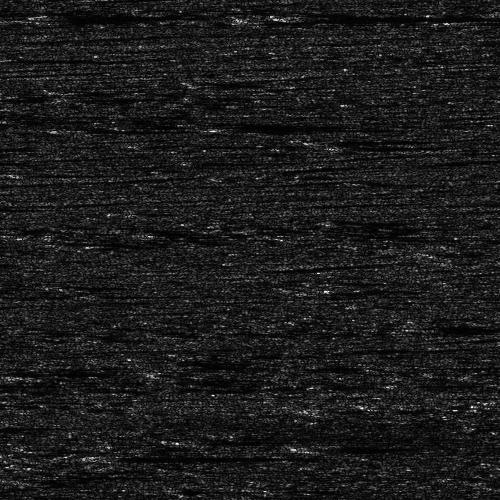object: (427, 16, 500, 29), (275, 442, 338, 451), (90, 454, 111, 459)
shadow: (307, 442, 446, 451), (101, 454, 316, 459), (0, 439, 41, 444)
